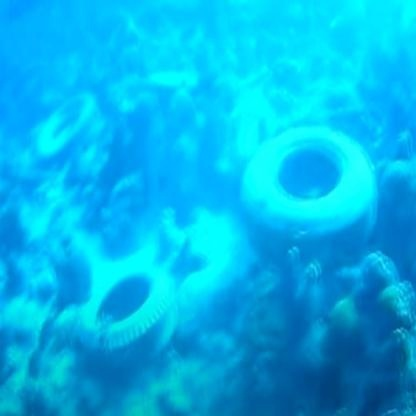tire: (236, 94, 397, 272), (79, 214, 192, 380), (39, 92, 119, 189)
